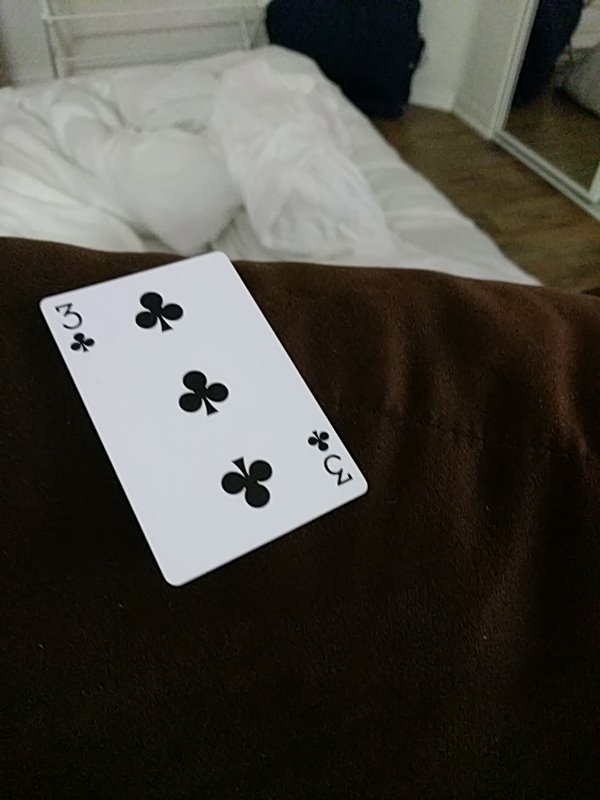Clubs: (41, 248, 369, 579)
